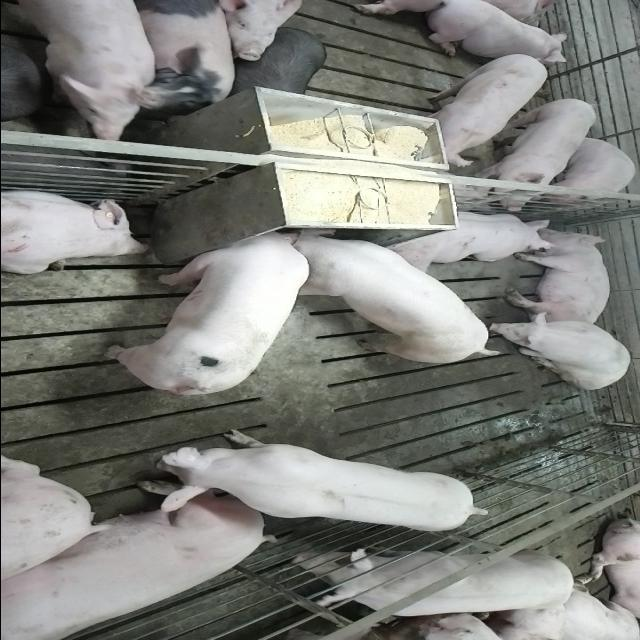Feeding: (100, 220, 310, 392), (279, 230, 502, 366)
Lateral_lying: (504, 227, 612, 326)
Sitting: (484, 311, 632, 390)
Standing: (133, 432, 491, 536), (257, 539, 574, 640), (0, 2, 198, 141), (404, 52, 549, 166), (468, 99, 595, 212), (136, 2, 240, 110), (222, 27, 326, 99)
Sternal_lying: (0, 187, 150, 275), (380, 207, 554, 268), (418, 2, 568, 61)
